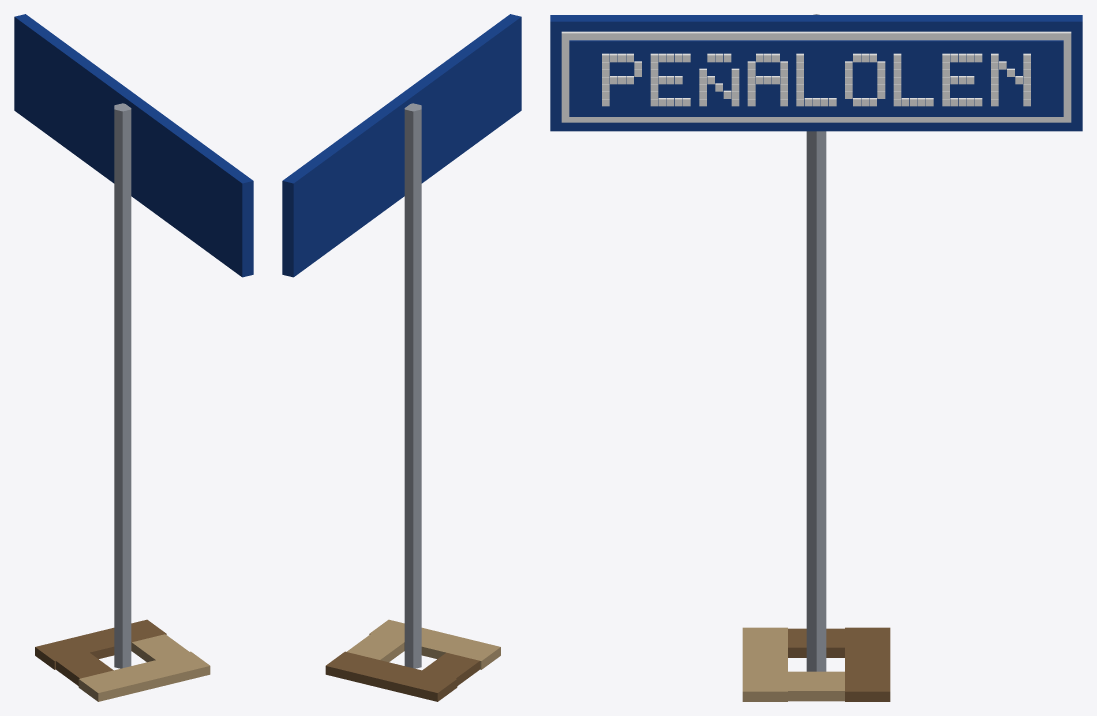
Rendered from letrero_comuna_penalolen.obj.
3 renders of one model, left to right at view 1: azimuth 30°, elevation 25°; view 2: azimuth 150°, elevation 25°; view 3: azimuth 270°, elevation 25°, orthographic. The views are drawn at different scales.
Parts seen in each view (by area): view 1: letrero_comuna_penalolen; view 2: letrero_comuna_penalolen; view 3: letrero_comuna_penalolen.
Part boxes in pixels (bbox=[...]): letrero_comuna_penalolen: bbox=[14, 14, 253, 701]; letrero_comuna_penalolen: bbox=[282, 14, 521, 701]; letrero_comuna_penalolen: bbox=[550, 14, 1082, 701].
Size of the model in its own units: 0.8 by 3.84 by 2.81.
